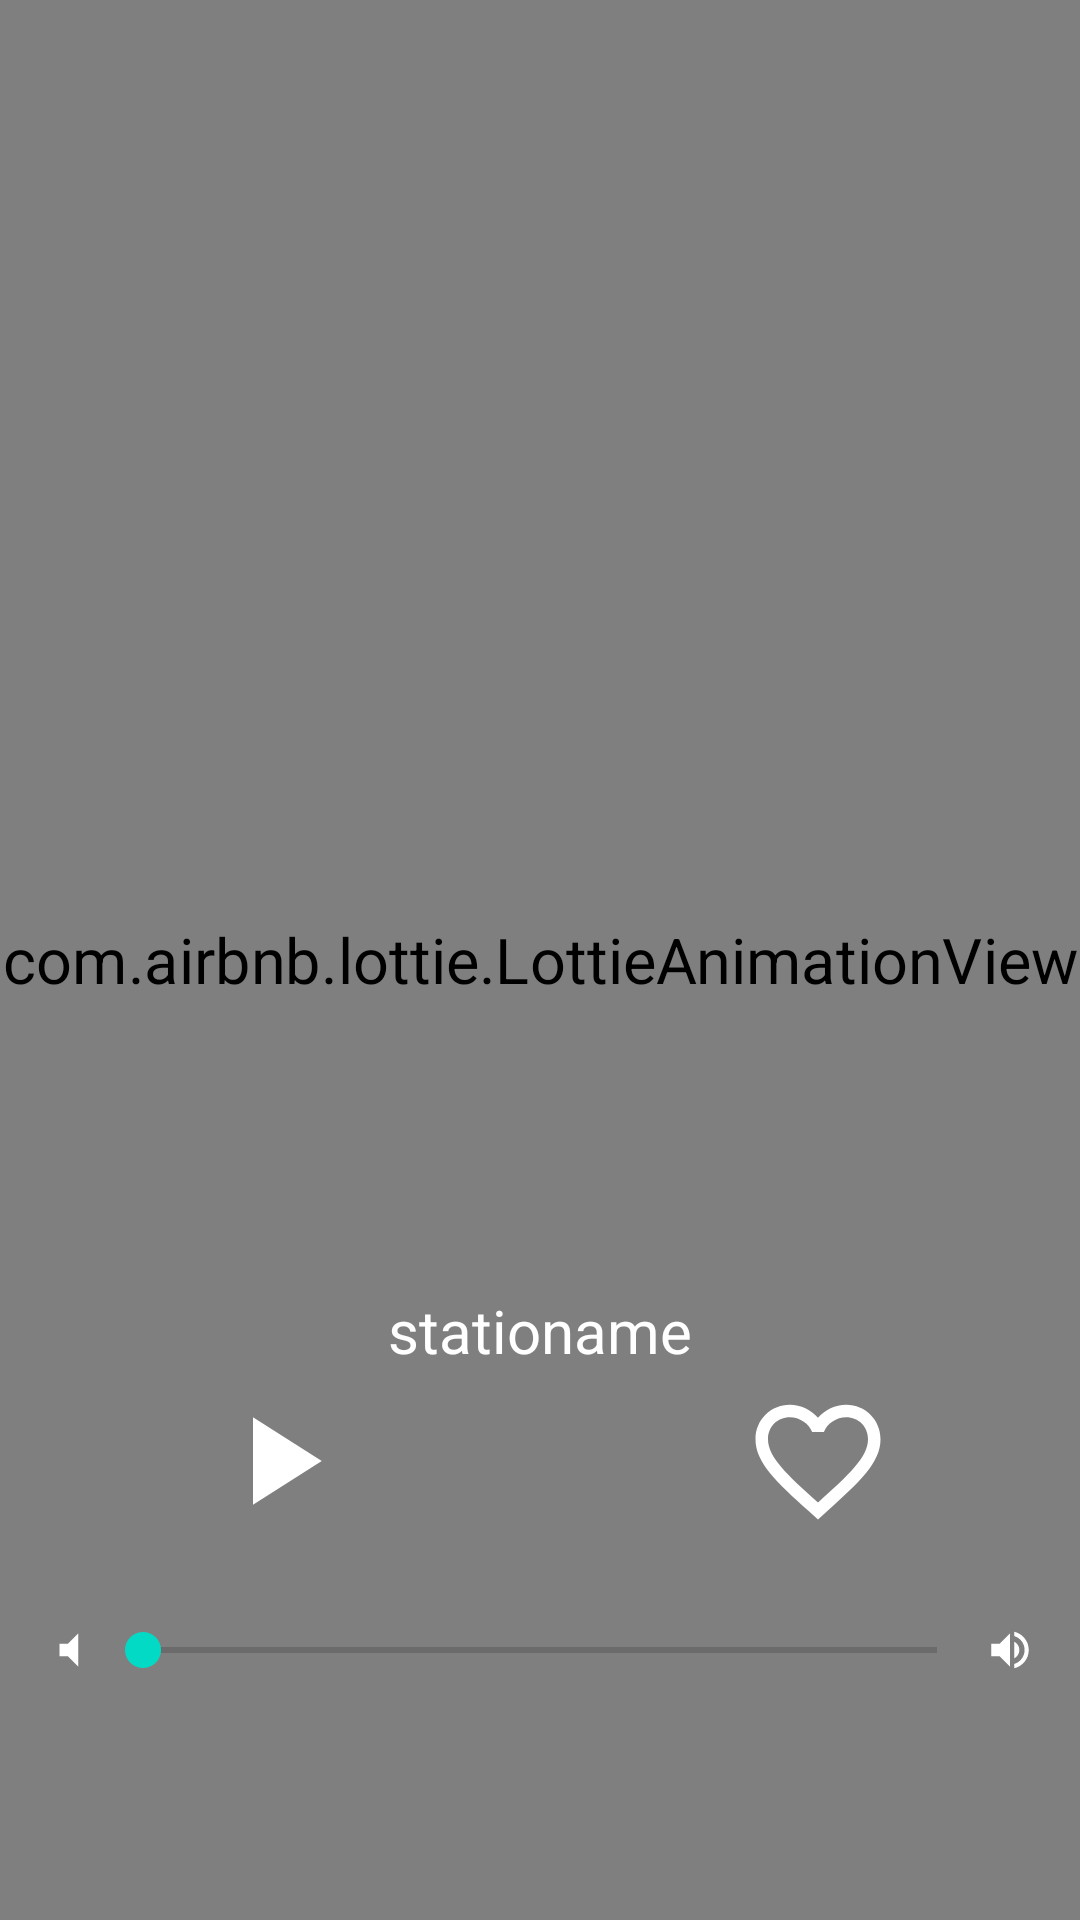

Screen size 1080×1920. Icon name, then its center in pixels as (x=x, y=y):
favorites: (x=818, y=1461)
play: (x=287, y=1461)
volume mute: (x=69, y=1650)
volume up: (x=1010, y=1650)
